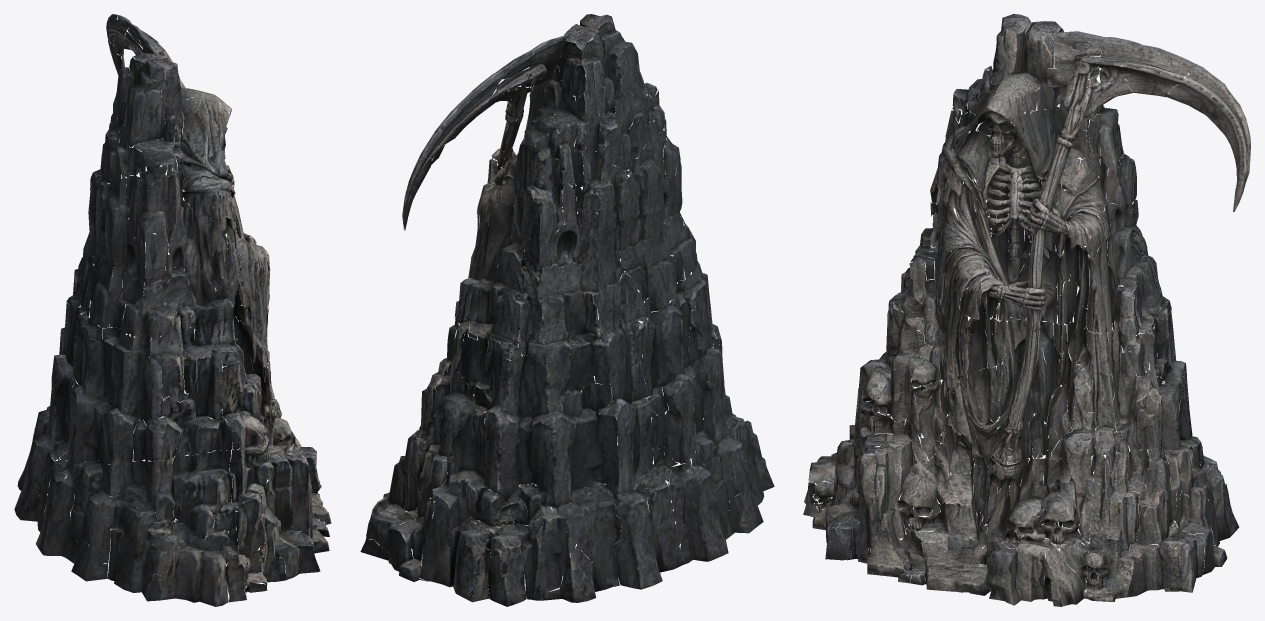
The model's file is reaper-cliff.glb.
The picture shows the model from 3 angles, left to right: view 1: azimuth 30°, elevation 25°; view 2: azimuth 150°, elevation 25°; view 3: azimuth 270°, elevation 25°; orthographic projection. The views are drawn at different scales.
Visible parts, largest first — view 1: tripo_node_2ca7c835-e7cc-4569-a07a-ba7b1daa664d; view 2: tripo_node_2ca7c835-e7cc-4569-a07a-ba7b1daa664d; view 3: tripo_node_2ca7c835-e7cc-4569-a07a-ba7b1daa664d.
Boxes of the visible parts, x1,y1,x2,y2 form: tripo_node_2ca7c835-e7cc-4569-a07a-ba7b1daa664d: [14, 14, 331, 606]; tripo_node_2ca7c835-e7cc-4569-a07a-ba7b1daa664d: [360, 14, 774, 606]; tripo_node_2ca7c835-e7cc-4569-a07a-ba7b1daa664d: [803, 14, 1250, 606].
Size of the model in its own units: 0.6228 by 0.9792 by 0.7923.
Materials: 1 (1 with a texture image).
